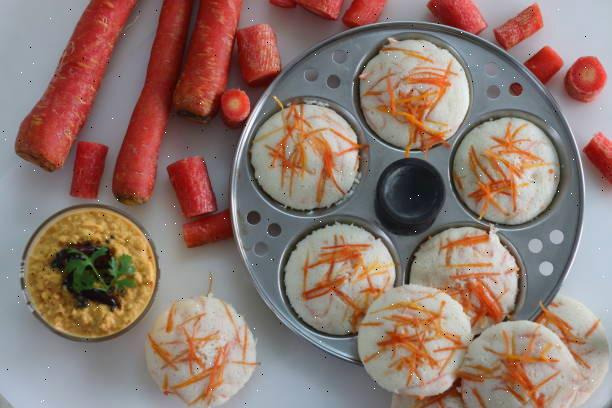coconut chutney: (21, 212, 157, 342)
idli: (262, 49, 603, 408), (151, 305, 260, 408)
